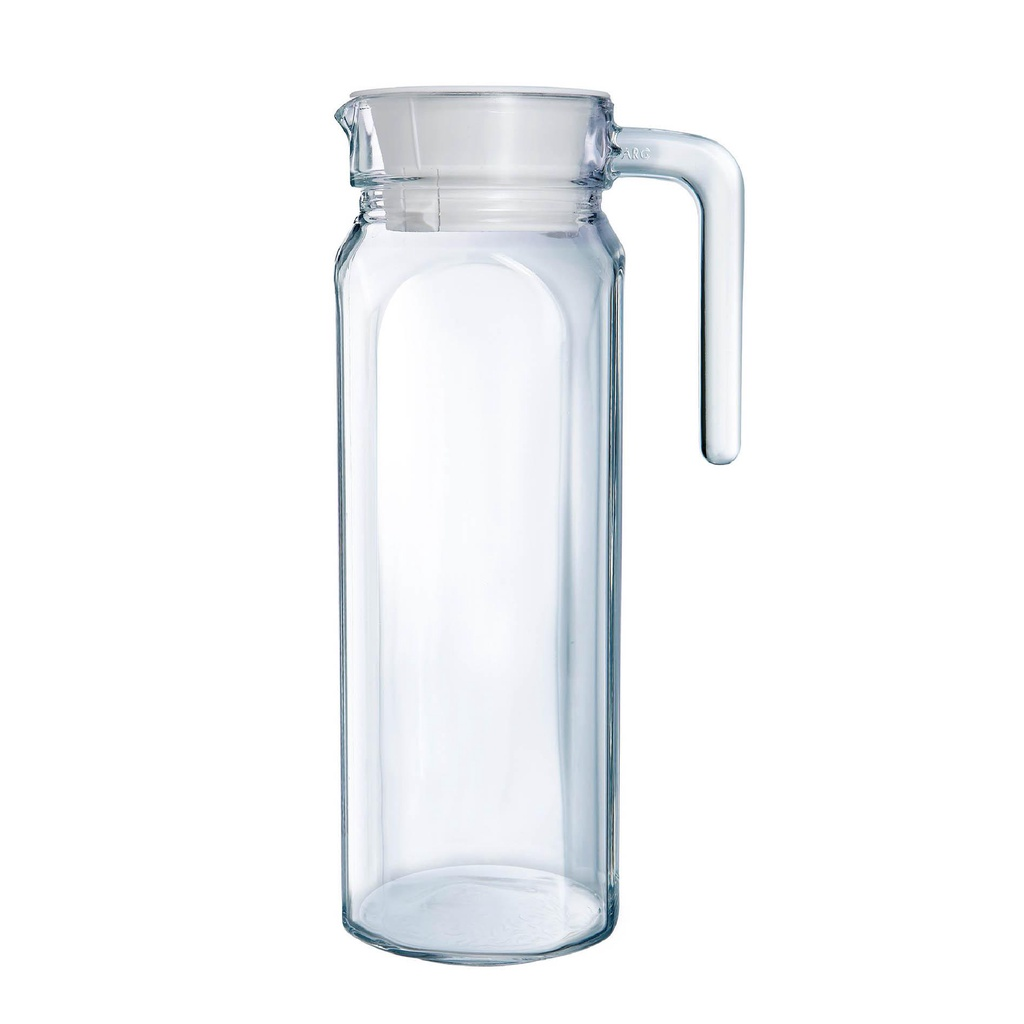glass: (332, 87, 746, 967)
